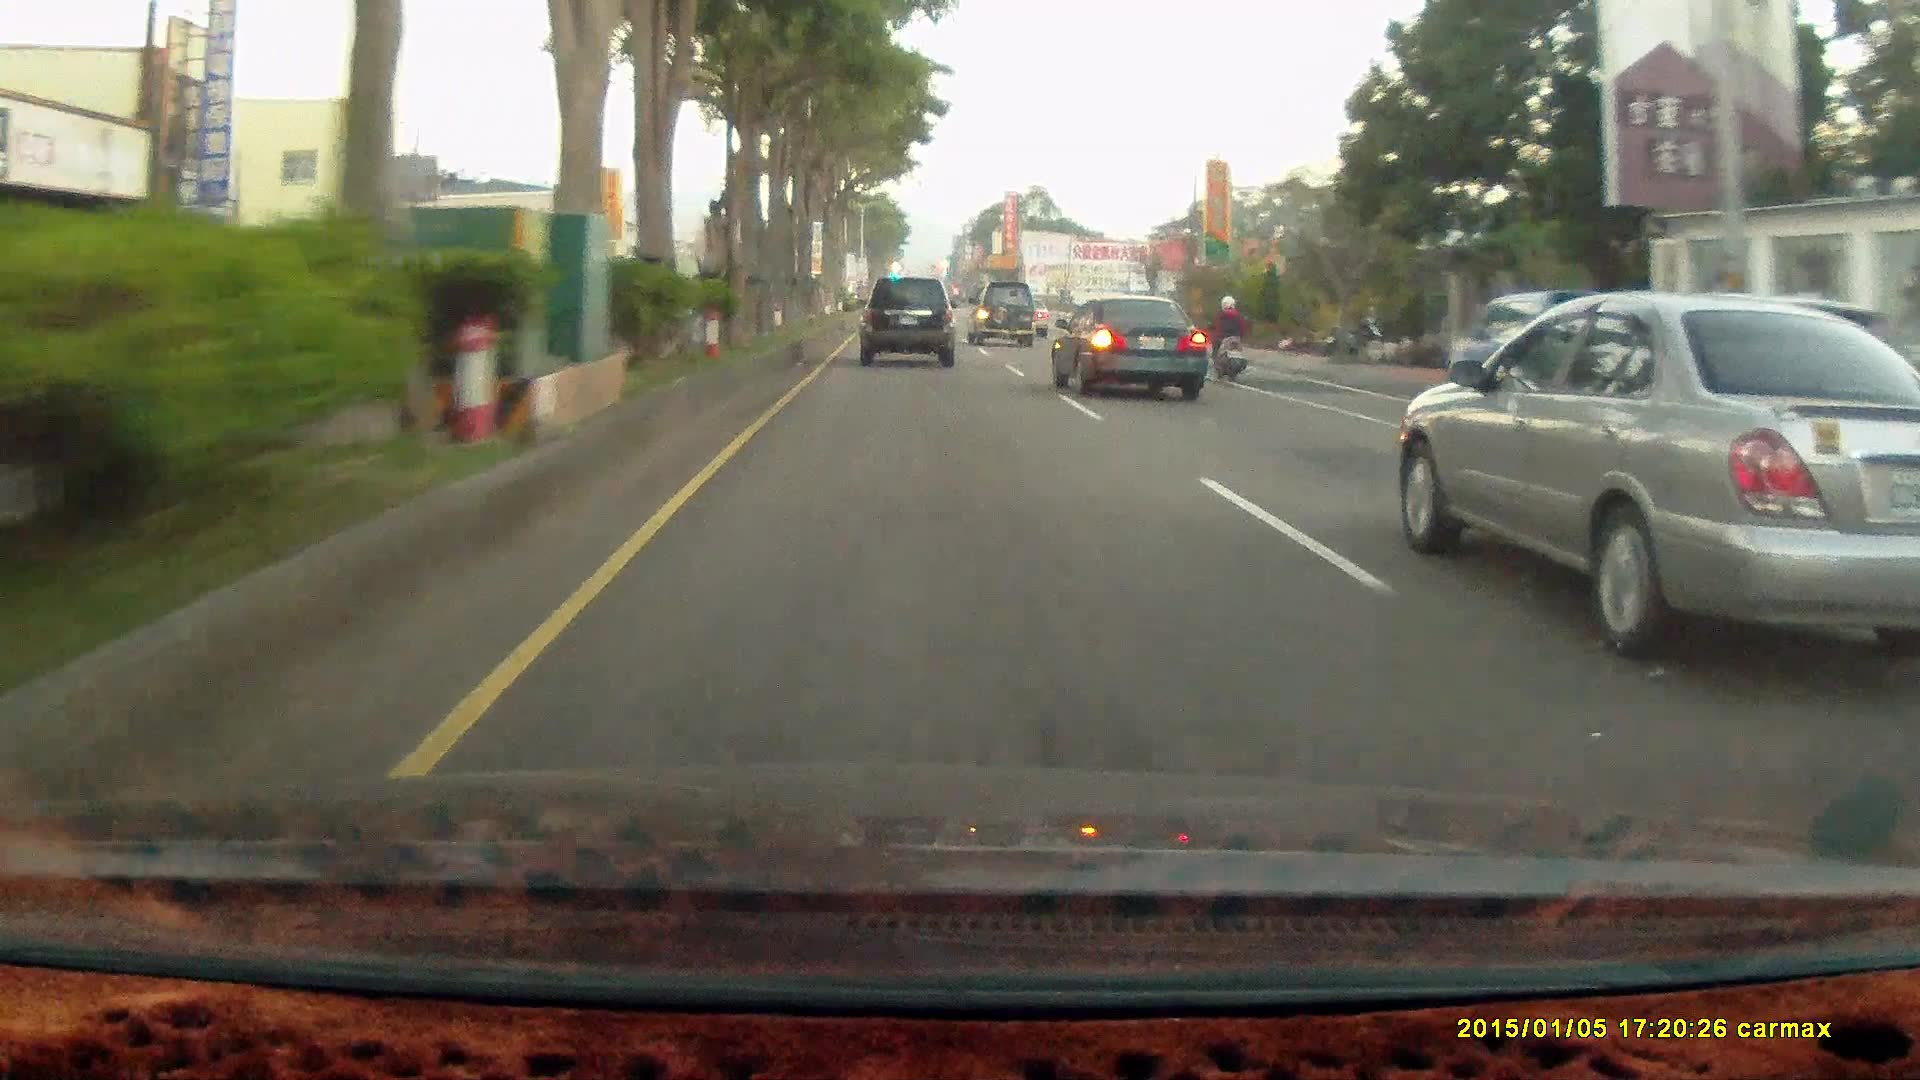rider: (1200, 286, 1261, 390), (1204, 290, 1248, 384)
vehicle: (1404, 299, 1920, 672), (1446, 286, 1649, 405), (1445, 287, 1648, 393), (1050, 294, 1209, 402), (1054, 297, 1213, 400), (861, 279, 962, 371), (853, 274, 952, 366), (966, 280, 1037, 349), (966, 280, 1037, 346)
